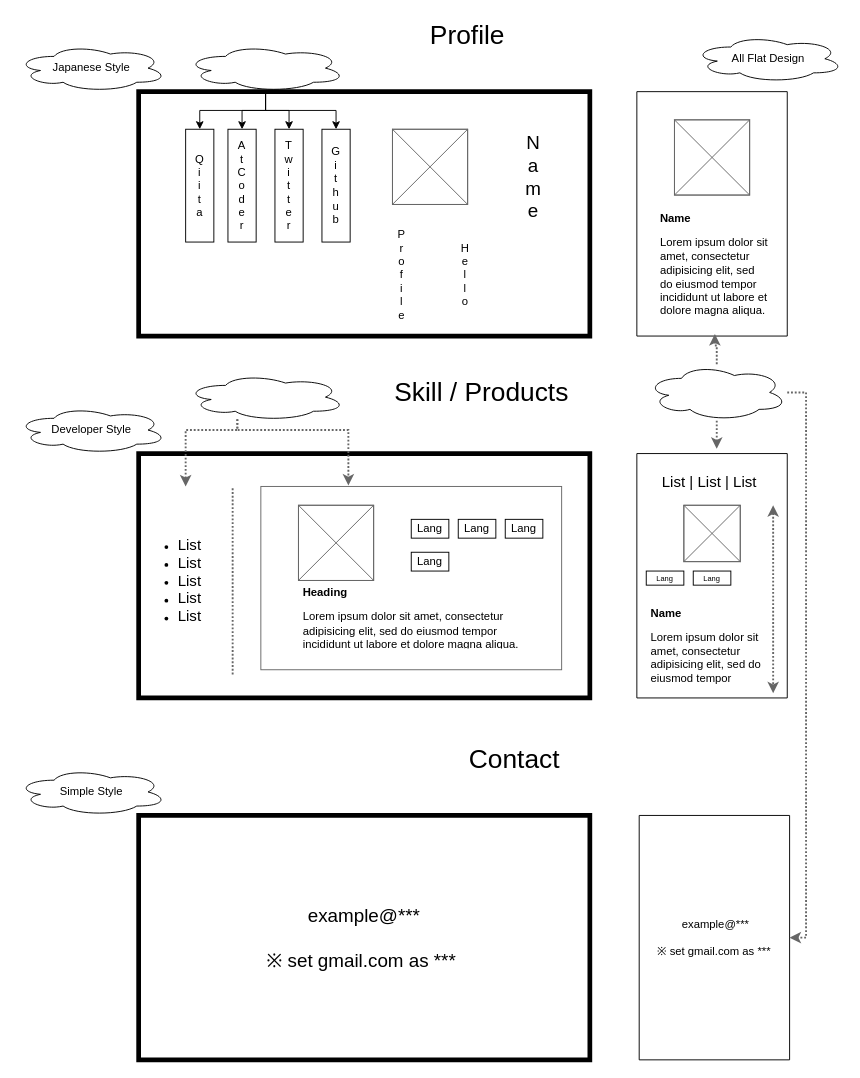
This 860x1078 diagram has some shape labels left out. The centre of each missing label's shape, as x and y in pixels:
"Fake SPA / Fade in/out" goes at pixel 265 397.
"Hover event" goes at pixel 265 68.
"Move with flick" goes at pixel 716 392.
